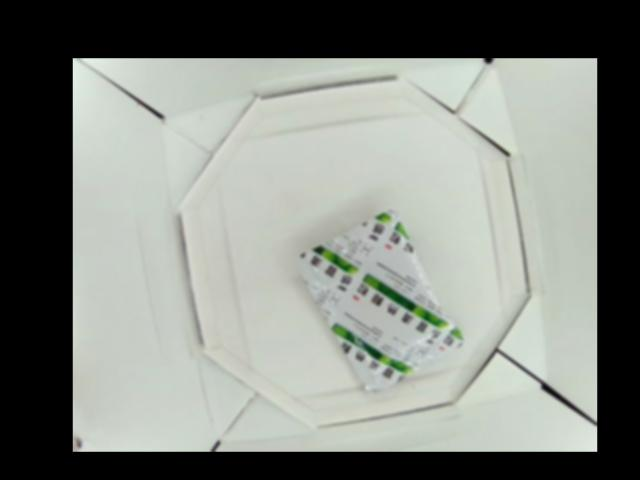Medicine: (299, 209, 466, 394)
